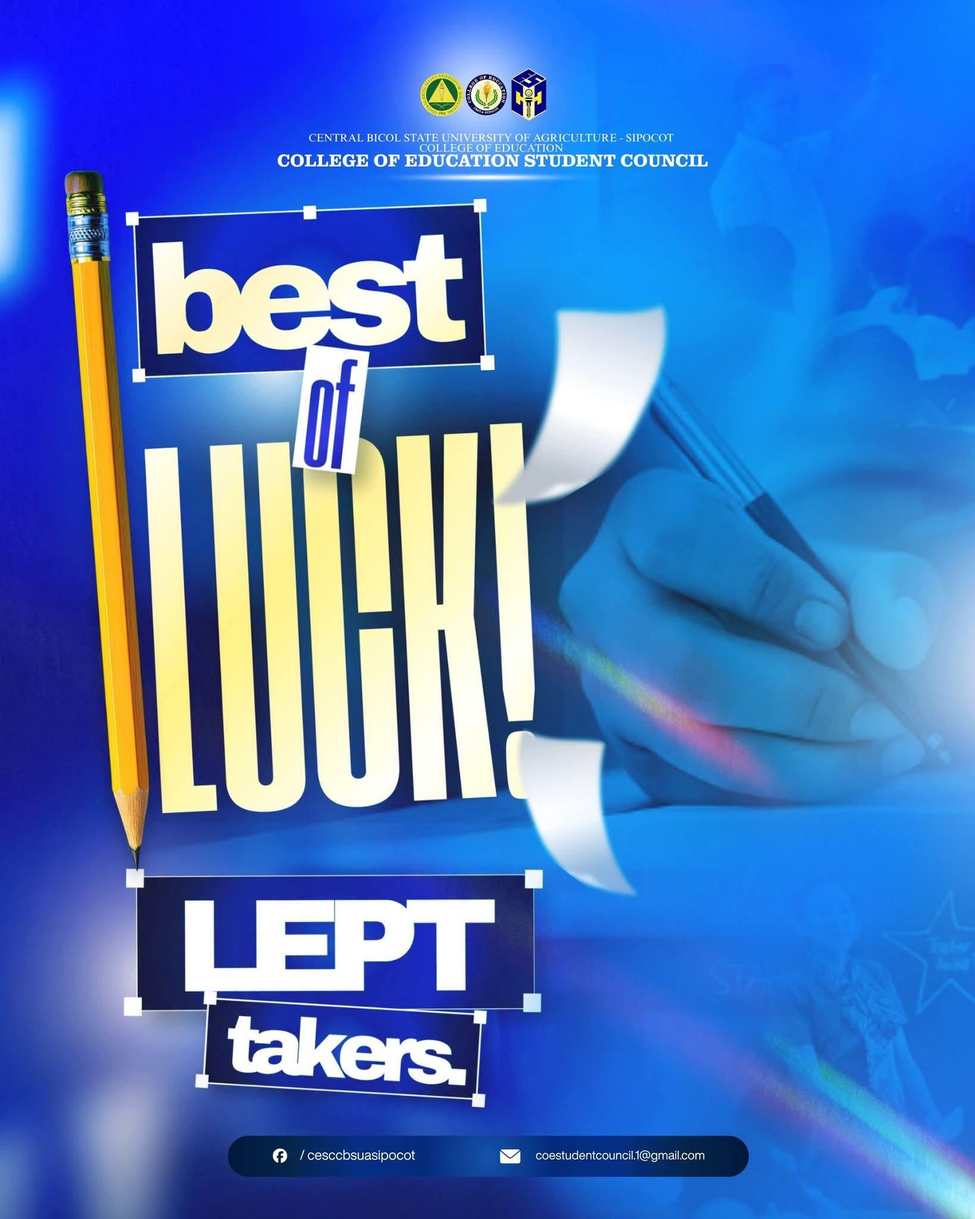embellishment: (64, 169, 151, 873), (491, 306, 666, 505), (518, 735, 640, 899), (495, 1144, 524, 1168), (271, 1145, 292, 1166)
logo: (510, 66, 550, 124), (418, 70, 465, 118), (464, 71, 509, 118)
text: (135, 415, 555, 821), (146, 220, 475, 362), (174, 888, 506, 995), (219, 1005, 473, 1092), (274, 129, 713, 173), (296, 350, 366, 475), (534, 1146, 708, 1165), (298, 1147, 419, 1163)
underlay: (125, 199, 496, 475), (124, 866, 545, 1109), (227, 1135, 751, 1178)
